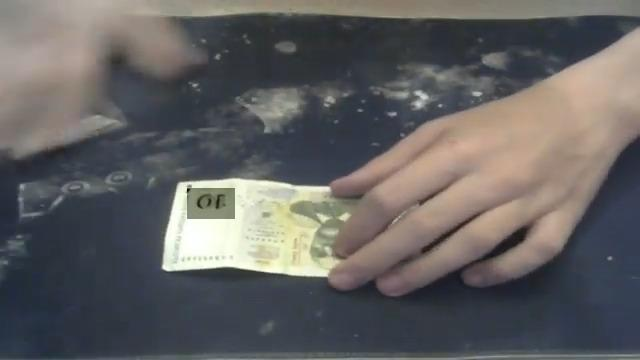10leva: (188, 189, 235, 219)
